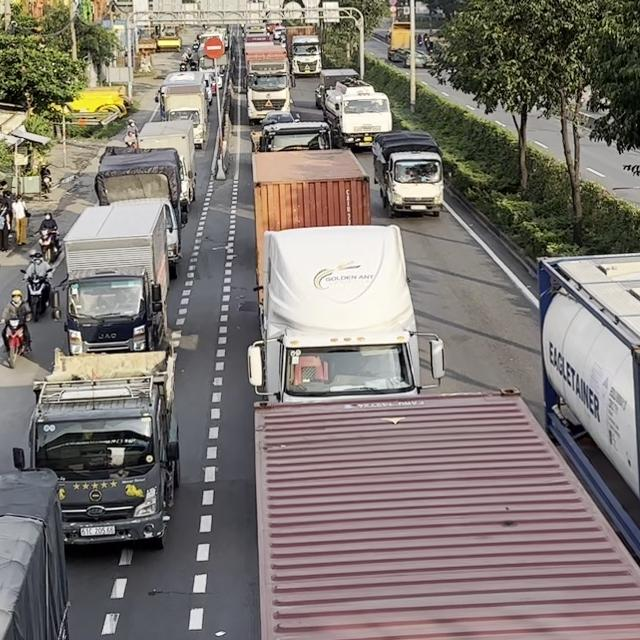motorcycle: (19, 266, 54, 322), (0, 314, 32, 369), (33, 227, 61, 264), (41, 174, 52, 193)
truck: (249, 385, 640, 640), (242, 148, 445, 405), (18, 342, 180, 549), (536, 250, 639, 505), (51, 197, 175, 354), (0, 456, 71, 639), (95, 146, 188, 281), (371, 130, 444, 218), (314, 69, 392, 150), (134, 120, 197, 204), (158, 70, 210, 148), (243, 44, 293, 125), (250, 120, 332, 153), (290, 34, 322, 77)
